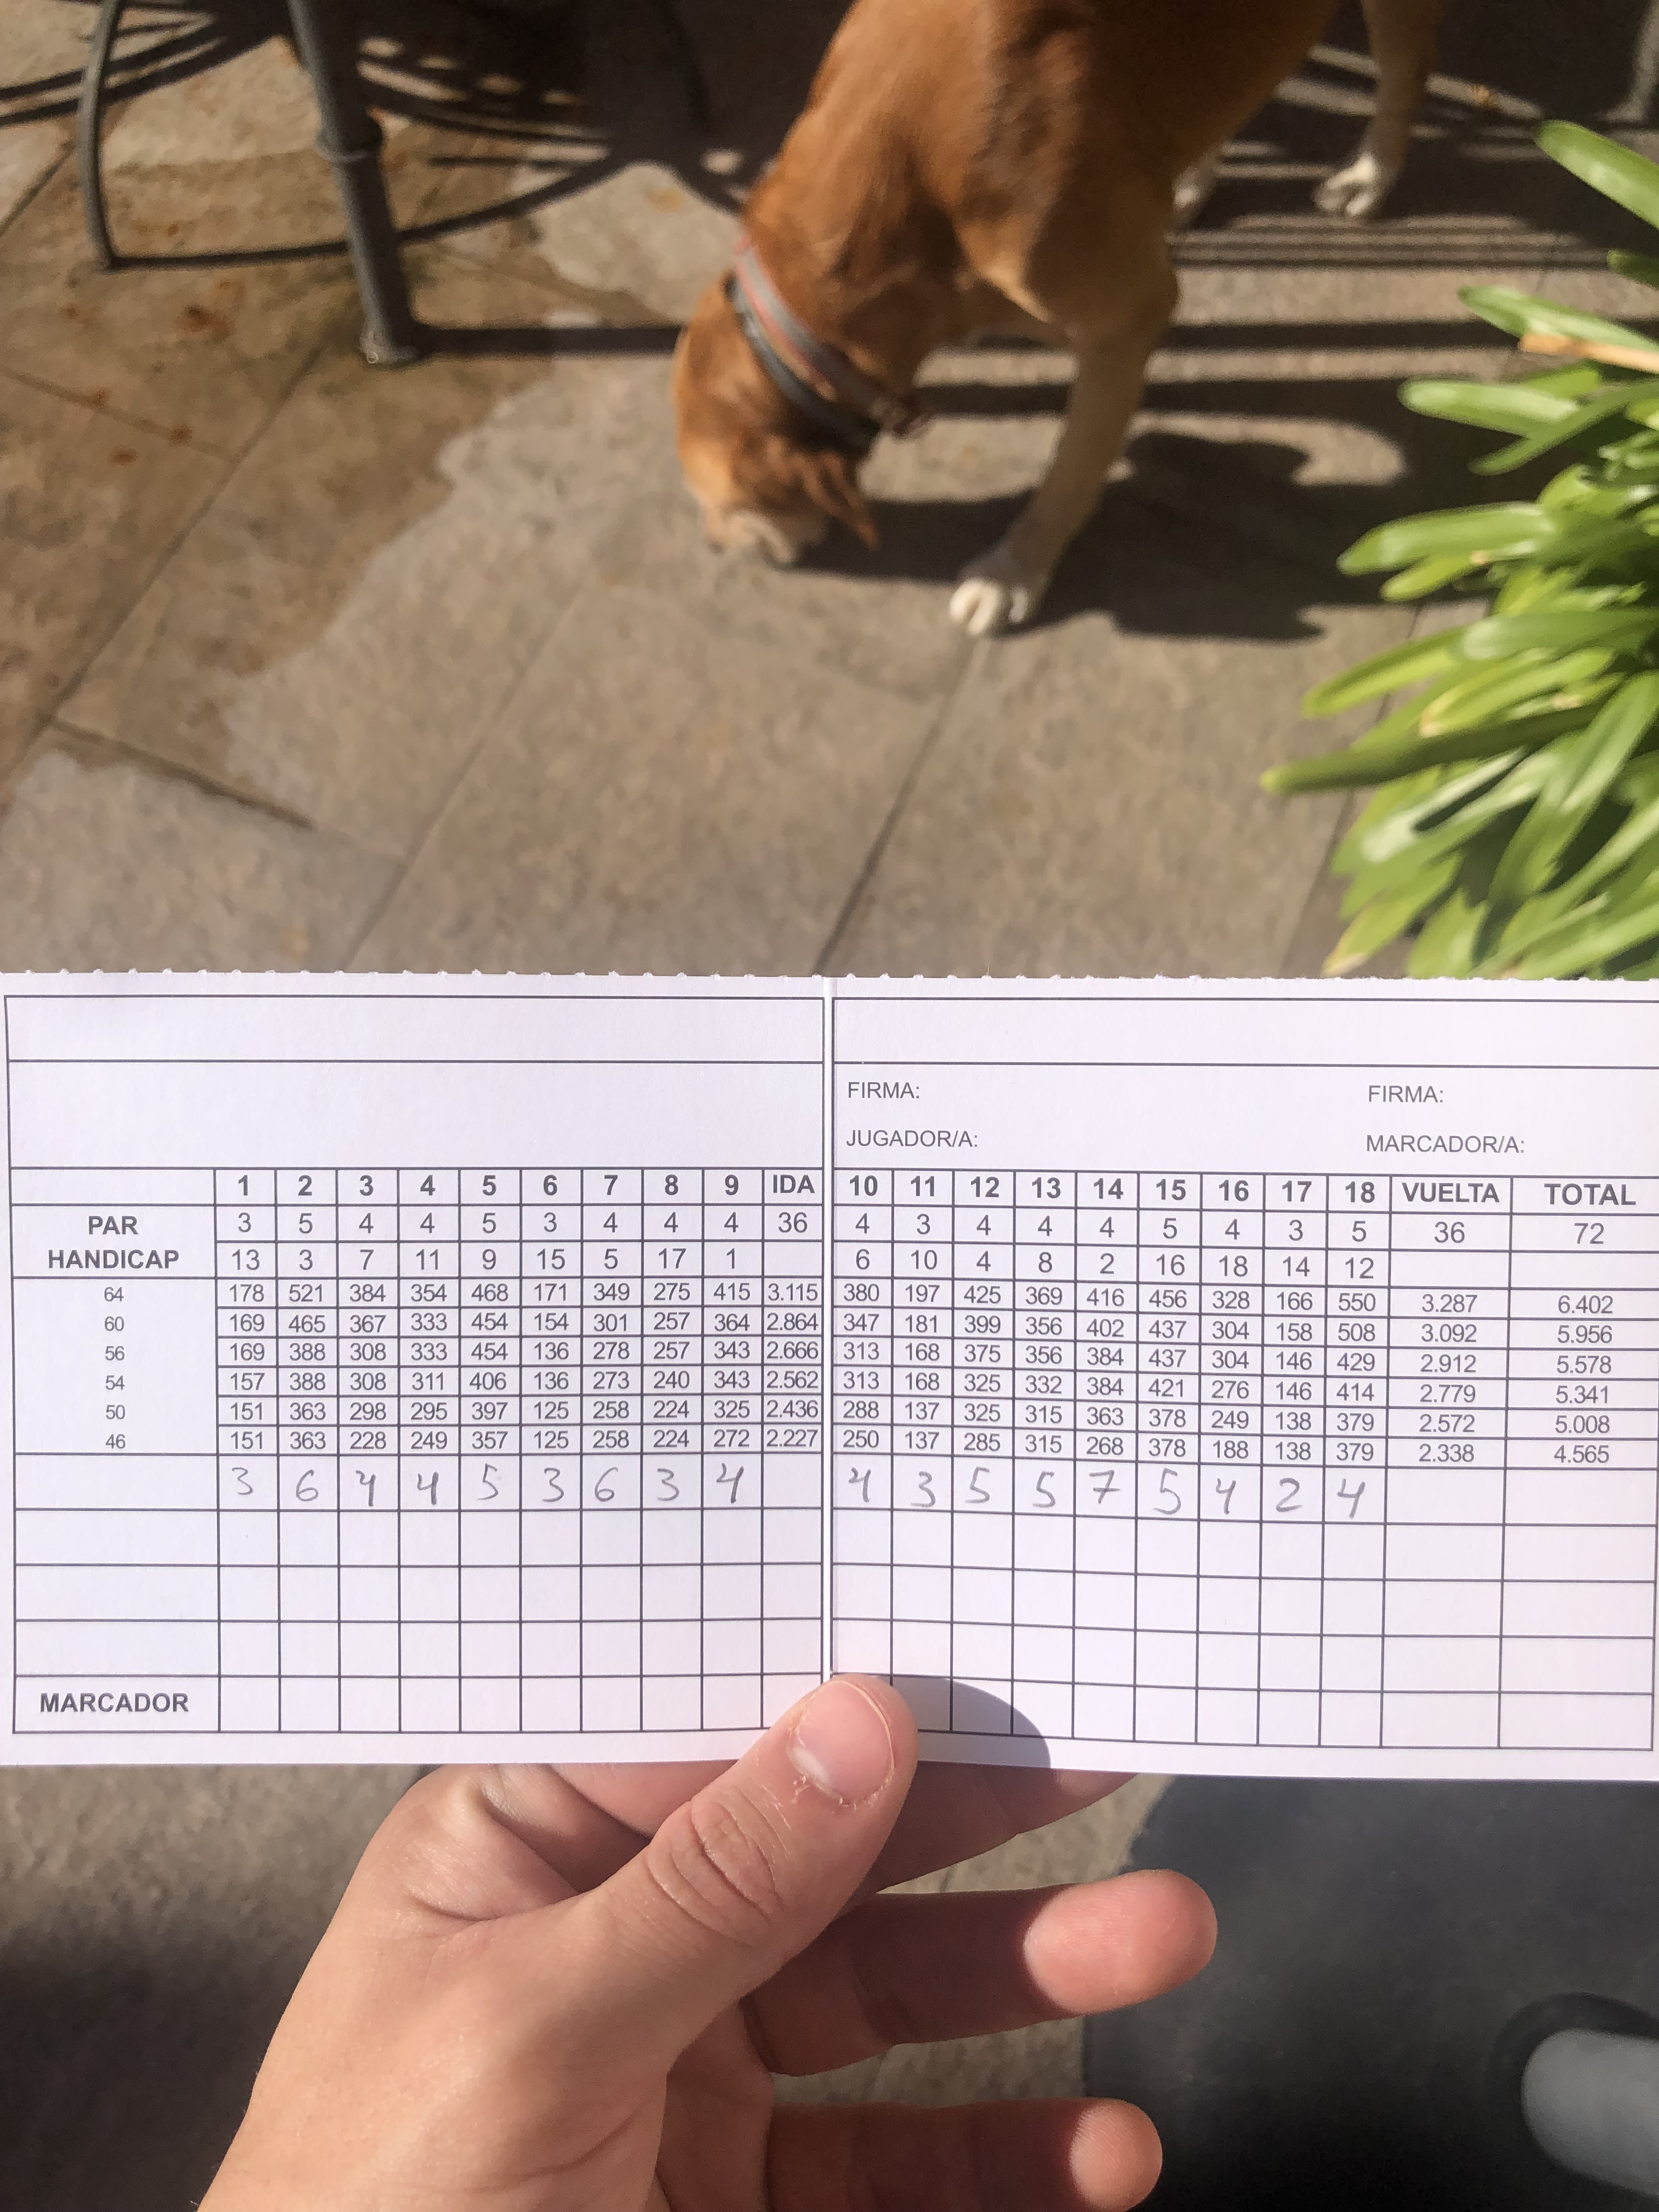par: (84, 1211, 1626, 1247)
score: (225, 1456, 1387, 1524)
